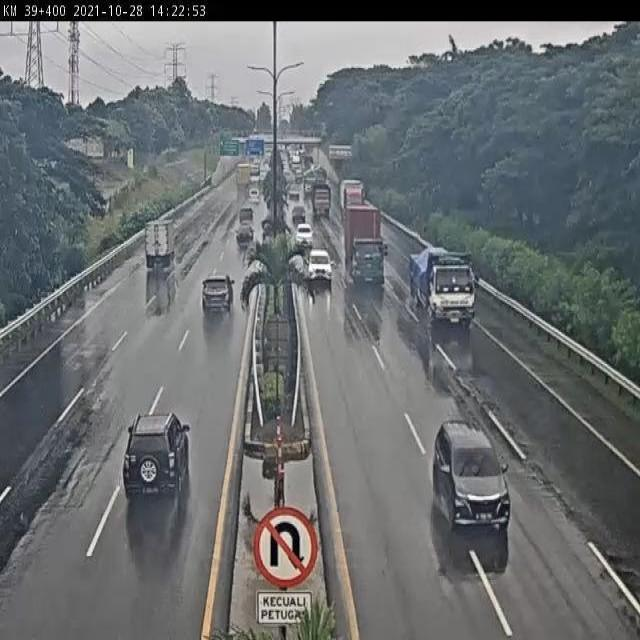Car: (418, 410, 522, 562), (121, 400, 192, 511), (198, 271, 235, 315), (305, 240, 336, 284), (294, 220, 316, 254), (233, 216, 254, 246), (238, 197, 255, 230), (289, 199, 306, 221)
Truck: (403, 227, 478, 337), (348, 200, 388, 292), (145, 210, 176, 273), (336, 170, 368, 220), (312, 180, 334, 220)
